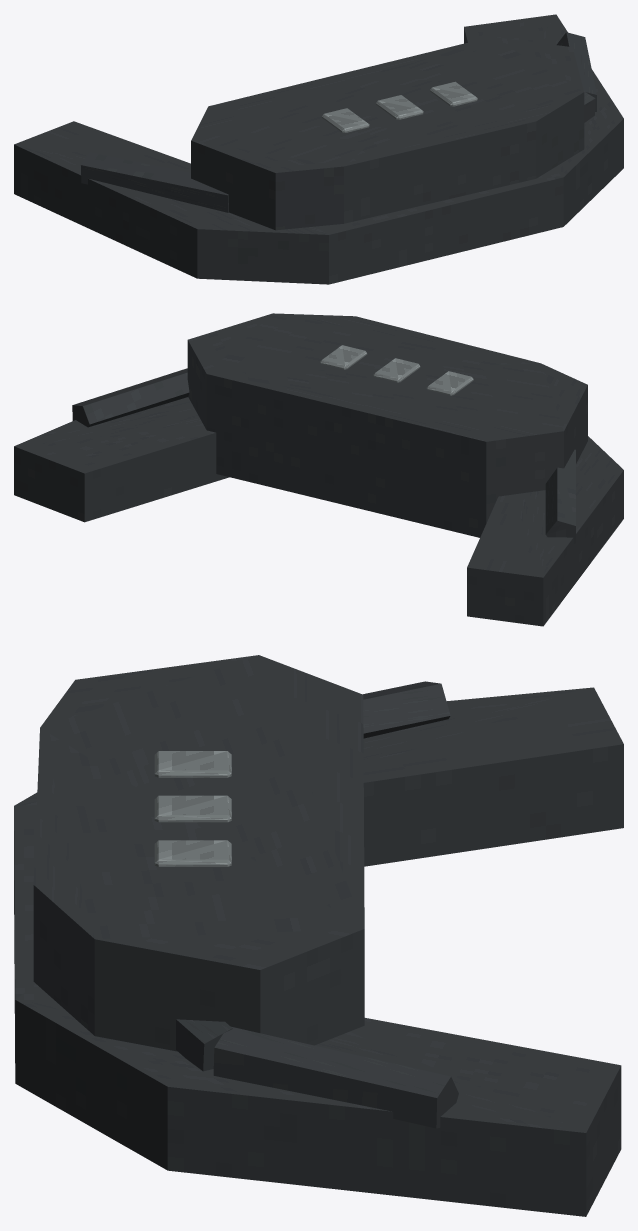
The model's file is plastic_mandible_guard.glb.
3 renders of one model, top to bottom at view 1: azimuth 30°, elevation 25°; view 2: azimuth 150°, elevation 25°; view 3: azimuth 270°, elevation 25°, orthographic. The views are drawn at different scales.
Parts seen in each view (by area): view 1: block_full height mandible shield, block_curved protective guard, block_raised binding 0, block_ventilation inlet (×3), block_raised binding 4; view 2: block_full height mandible shield, block_curved protective guard, block_raised binding 4, block_raised binding 0, block_ventilation inlet (×3); view 3: block_curved protective guard, block_full height mandible shield, block_raised binding 4, block_ventilation inlet (×3), block_raised binding 0, block_raised binding 3.
Part boxes in pixels (<box>): block_full height mandible shield: <box>191,37,584,230</box>; block_curved protective guard: <box>14,14,623,284</box>; block_raised binding 0: <box>81,152,228,212</box>; block_ventilation inlet (×3): <box>322,81,477,132</box>; block_raised binding 4: <box>556,32,596,111</box>; block_full height mandible shield: <box>187,313,587,537</box>; block_curved protective guard: <box>14,397,623,626</box>; block_raised binding 4: <box>72,368,189,427</box>; block_raised binding 0: <box>545,449,575,543</box>; block_ventilation inlet (×3): <box>320,345,473,395</box>; block_curved protective guard: <box>14,687,623,1216</box>; block_full height mandible shield: <box>33,655,364,1051</box>; block_raised binding 4: <box>213,1026,458,1128</box>; block_ventilation inlet (×3): <box>154,751,231,866</box>; block_raised binding 0: <box>363,681,450,738</box>; block_raised binding 3: <box>176,1019,232,1071</box>.
Bounding box in the file's own units: 0.1591 × 0.0311 × 0.092.
1 material, 1 textured.
